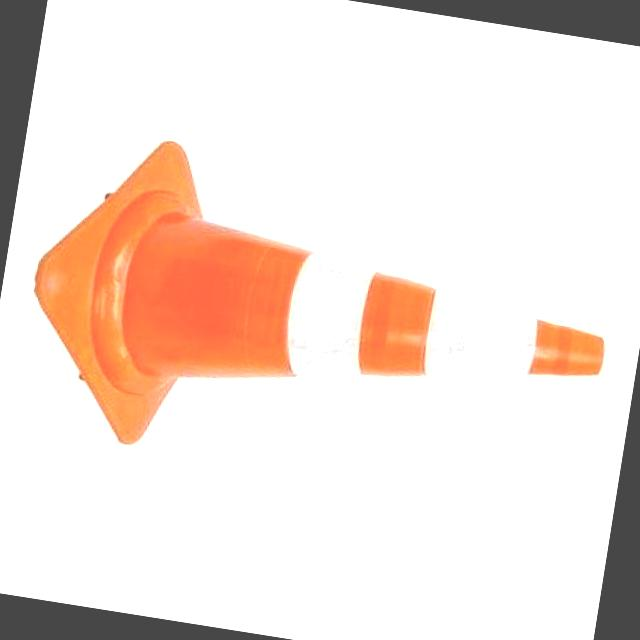cone: (0, 111, 629, 524)
